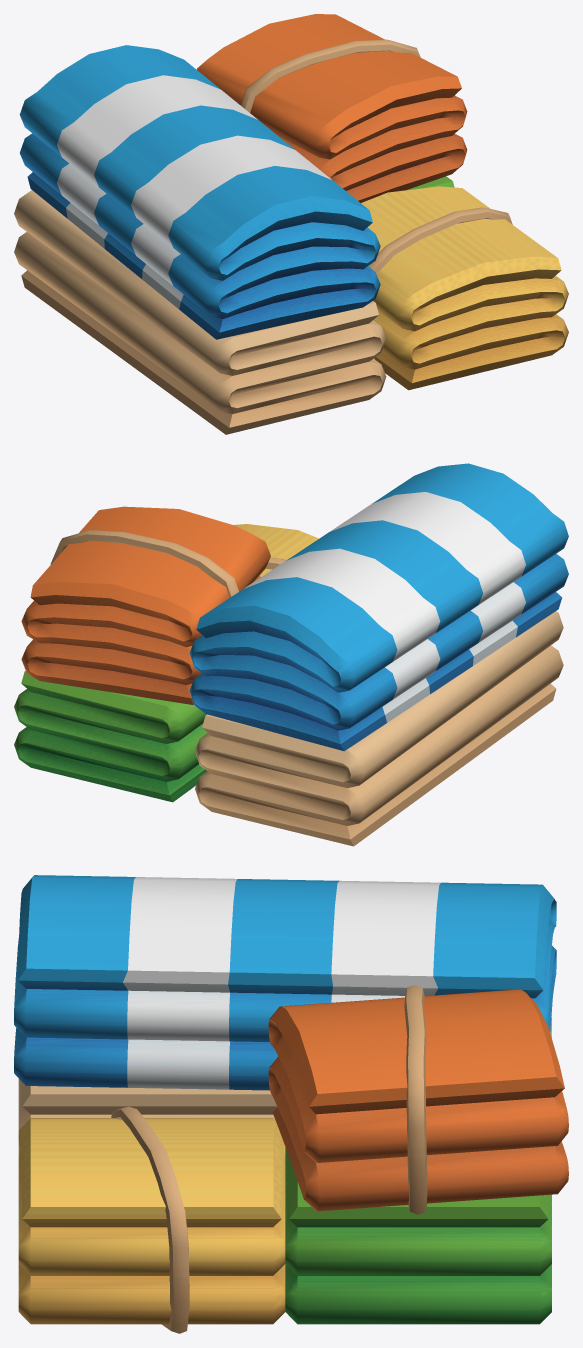
The model's file is Textiles_Stack_Large_Colored.gltf.
3 renders of one model, top to bottom at view 1: azimuth 30°, elevation 25°; view 2: azimuth 150°, elevation 25°; view 3: azimuth 270°, elevation 25°, orthographic. The views are drawn at different scales.
Parts seen in each view (by area): view 1: Textiles_Stack_Large_Colored; view 2: Textiles_Stack_Large_Colored; view 3: Textiles_Stack_Large_Colored.
Part boxes in pixels (<box>): Textiles_Stack_Large_Colored: <box>14,14,568,434</box>; Textiles_Stack_Large_Colored: <box>14,463,568,846</box>; Textiles_Stack_Large_Colored: <box>14,875,568,1333</box>.
Bounding box in the file's own units: 1.64 × 0.9556 × 1.66.
1 material, 1 textured.
